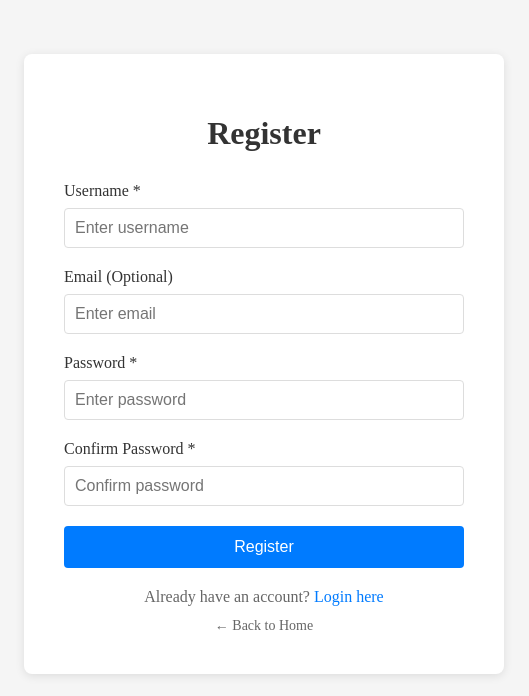
Frontend Tests › Register Page › should handle registration error
This screenshot has width=529, height=696.
Type "existinguser" into the field with placeholder "Enter username" at (264, 228), box top-left (64, 208), bottom-right (464, 248)
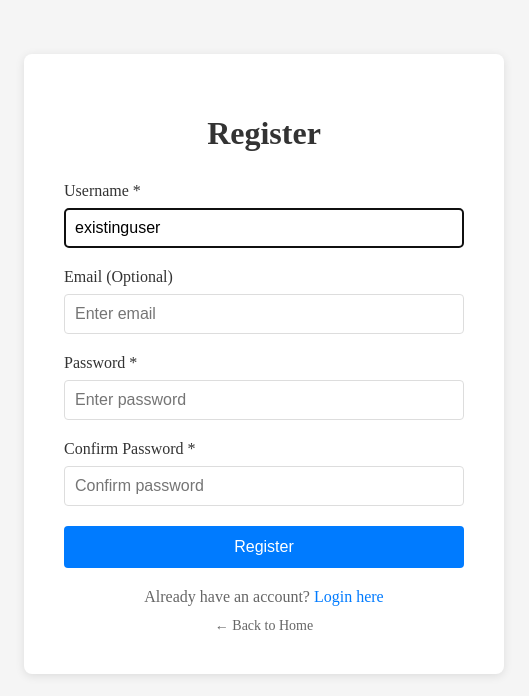
Type "password123" into the password field with placeholder "Enter password" at (264, 400), box top-left (64, 380), bottom-right (464, 420)
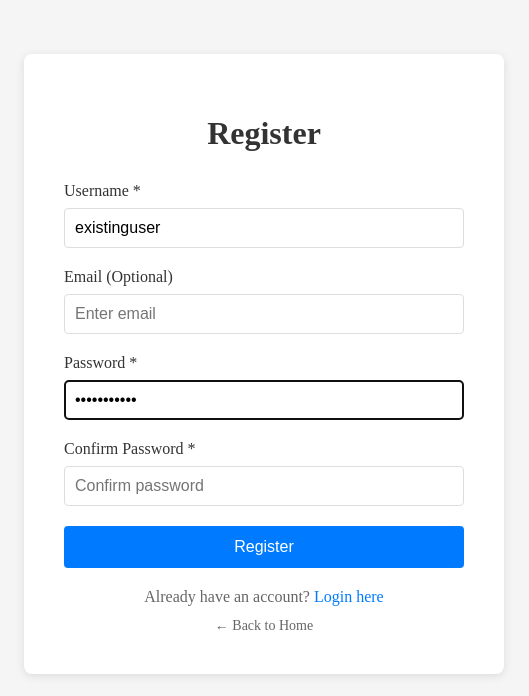
Type "password123" into the password field with placeholder "Confirm password" at (264, 486), box top-left (64, 466), bottom-right (464, 506)
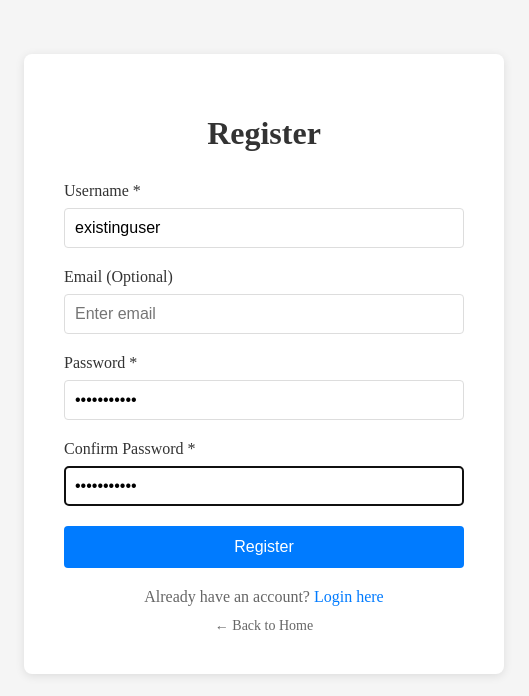
Click the button "Register" at (264, 547), box top-left (64, 526), bottom-right (464, 568)
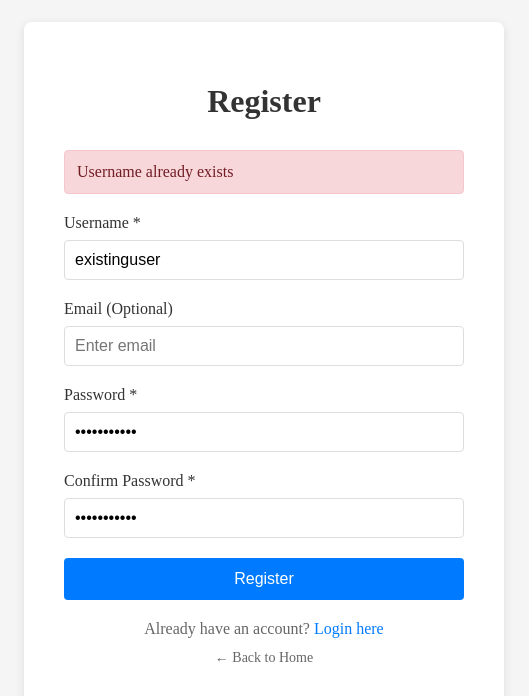
Result: the text "Username already exists" is shown at top-left (64, 150), bottom-right (464, 194)
